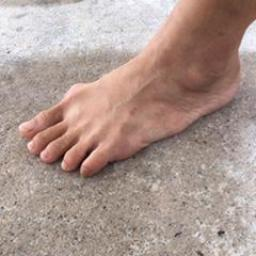Lateral View -Left Foot-: (14, 17, 253, 190)
